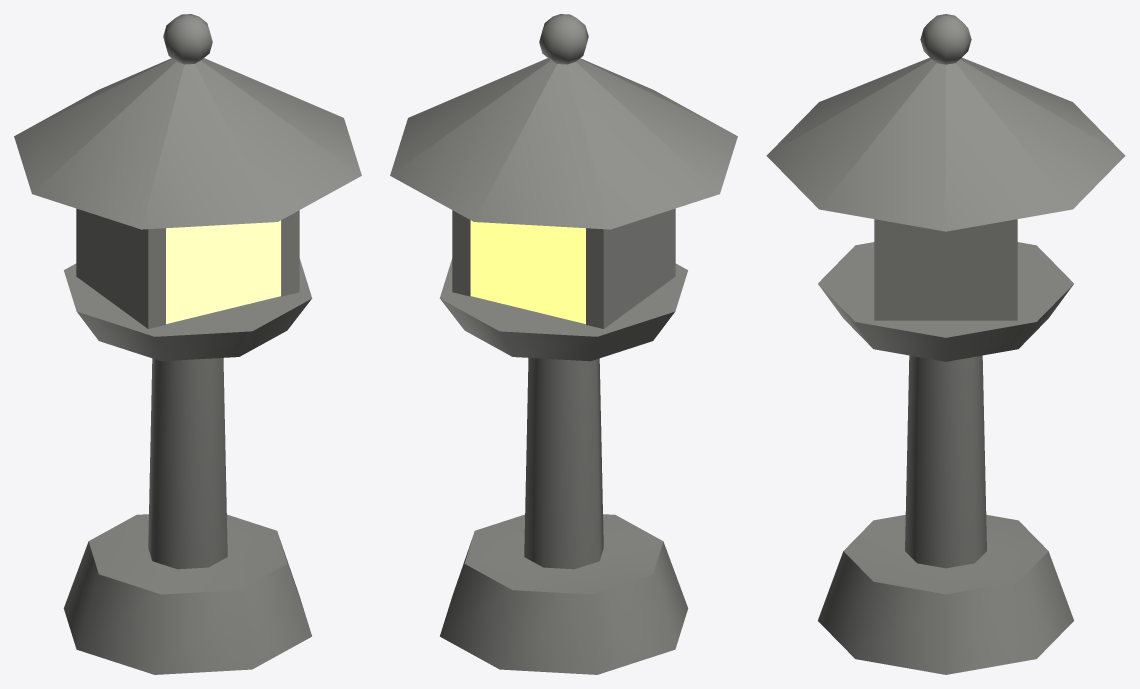
Rendered from lanterna_pedra.glb.
3 renders of one model, left to right at view 1: azimuth 30°, elevation 25°; view 2: azimuth 150°, elevation 25°; view 3: azimuth 270°, elevation 25°, orthographic.
Parts seen in each view (by area): view 1: Prop; view 2: Prop; view 3: Prop.
Part boxes in pixels (left/top/right/bottom): Prop: left=14, top=14, right=361, bottom=674; Prop: left=390, top=14, right=737, bottom=674; Prop: left=766, top=14, right=1125, bottom=674.
Bounding box in the file's own units: 1.4 × 2.6 × 1.4.
